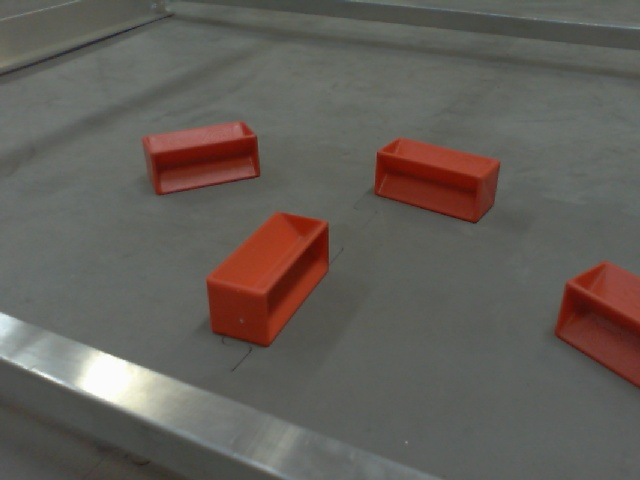RedSample: (204, 210, 332, 348), (372, 134, 501, 228), (550, 258, 640, 387), (137, 118, 263, 195)
